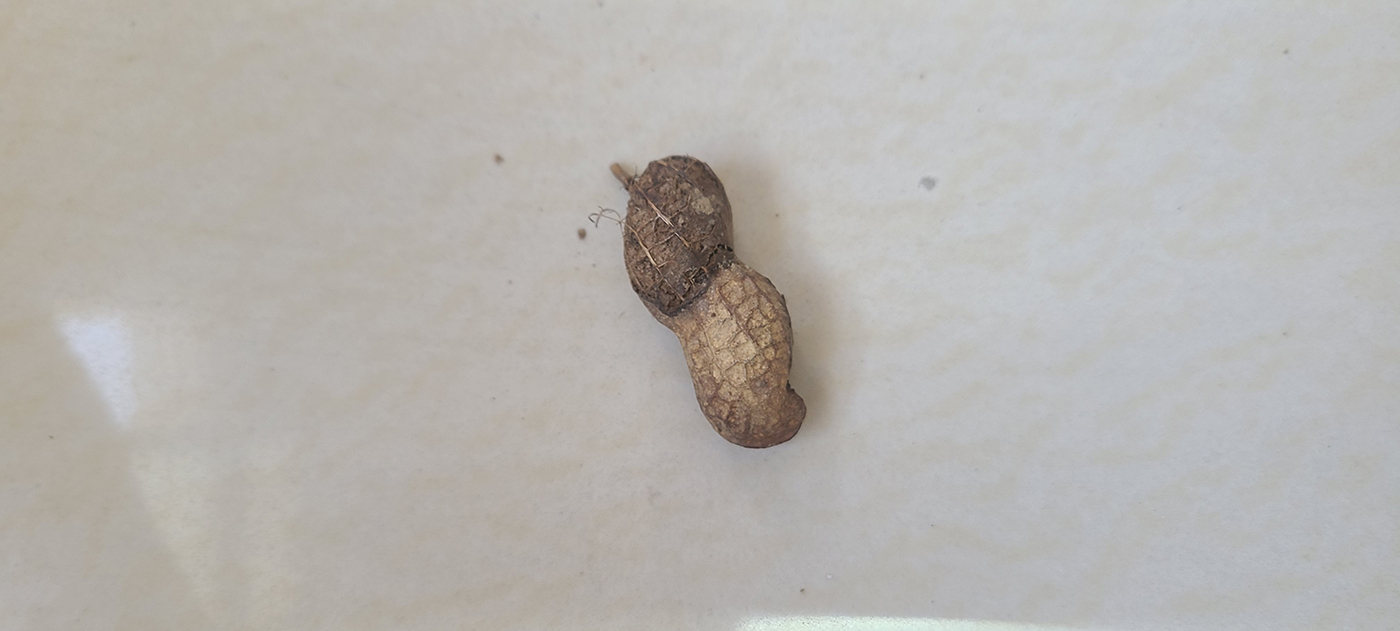l: (626, 151, 809, 452)
